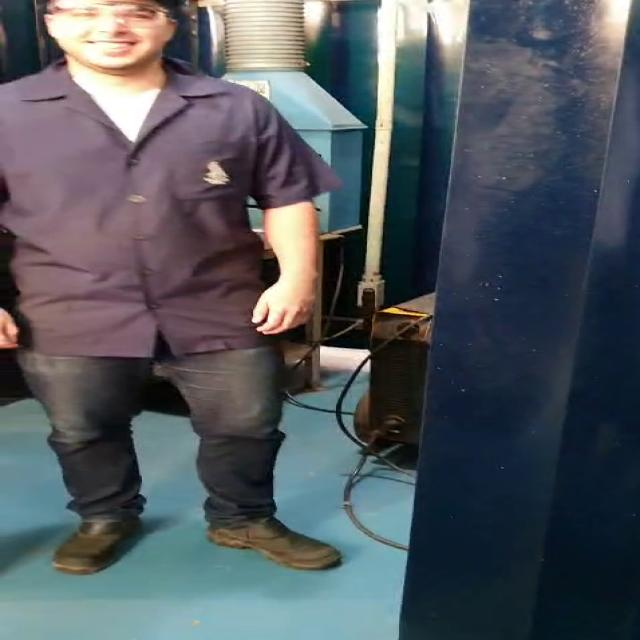oculos-epi: (30, 1, 181, 32)
